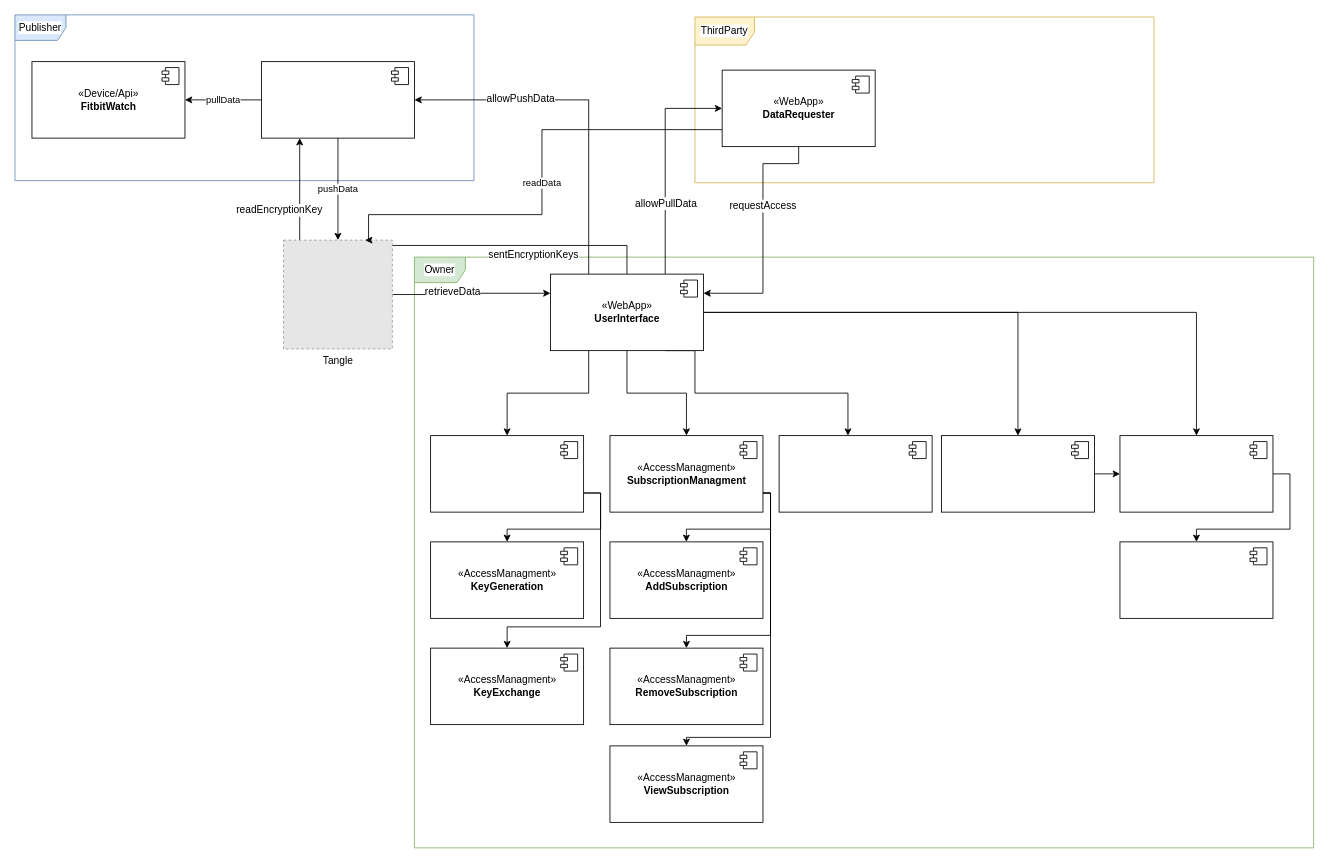
Image size: 1329x863. Some labels were removed from this diagram. Grey dashed boxes stand in for pictures. The shapes that lost their labels are listed below. From the top down, each one's centre as x and y in pixels, then its label:
At point 337,99: "«Lambda» DataPublisher".
At point 507,473: "«AccessManagment» KeyManagment".
At point 855,473: "«Visulization» DataVisuliziation".
At point 1017,473: "«Visulization» DataRetriever".
At point 1196,473: "«Storage» LocalDataStorage".
At point 1196,579: "«Storage» RestoreFromTangle".
